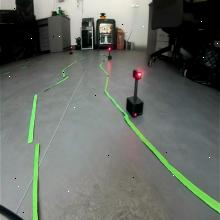red: (133, 68, 141, 80)
